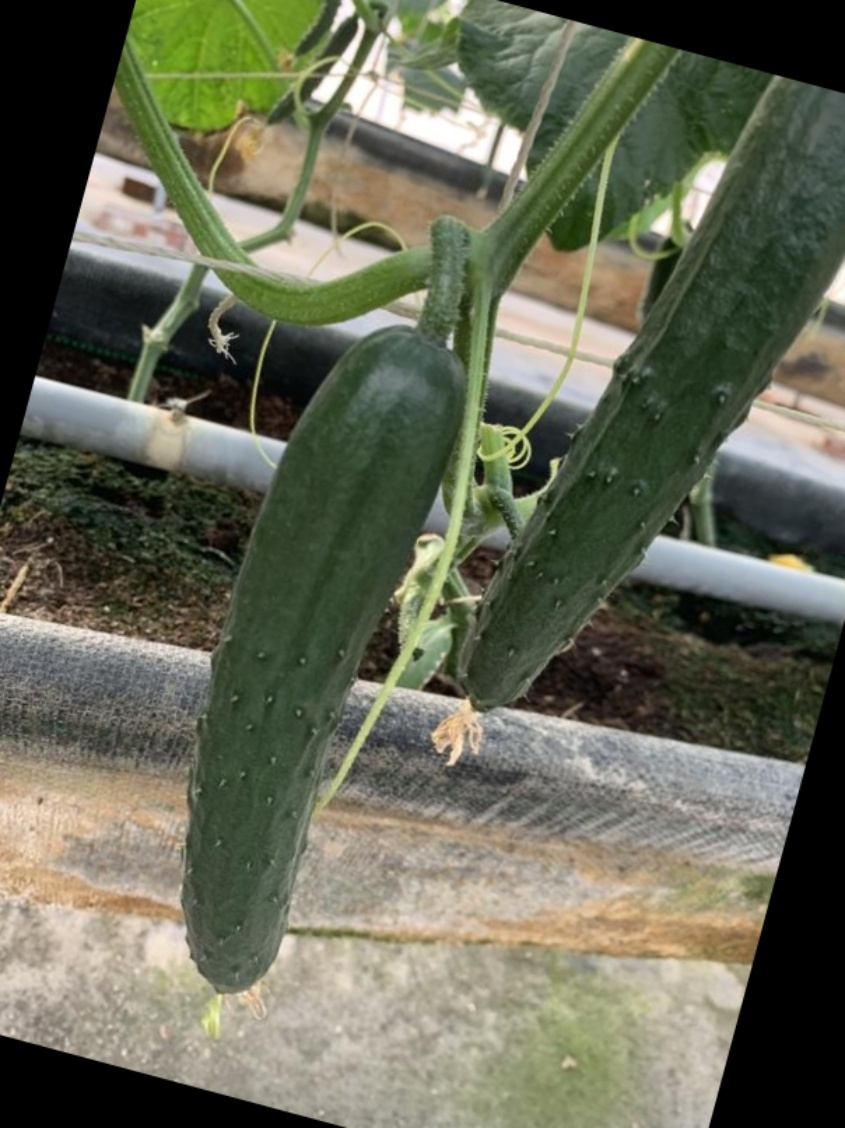mature: (451, 74, 843, 724)
